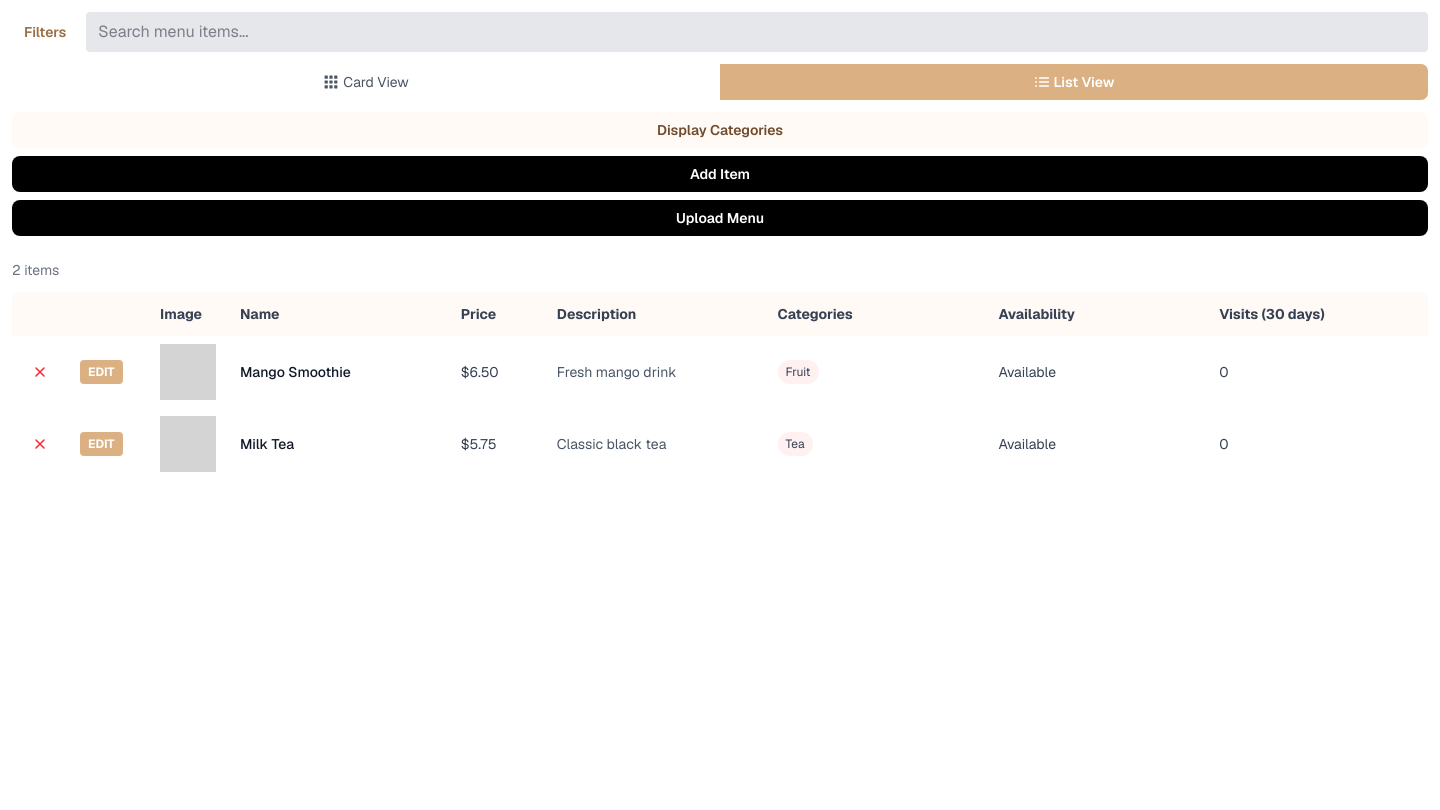
Scenario: Admin Menu UI integration › Display, search, sorting, and permissions › provides menu management controls for authorized admins
Check: the button "Add Item" is enabled, box [12,156,1428,192]
Check: the button "Upload Menu" is enabled, box [12,200,1428,236]
Click the button "EDIT" next to "Milk Tea": click(101, 444) [80,432,123,456]
(page scrolled)
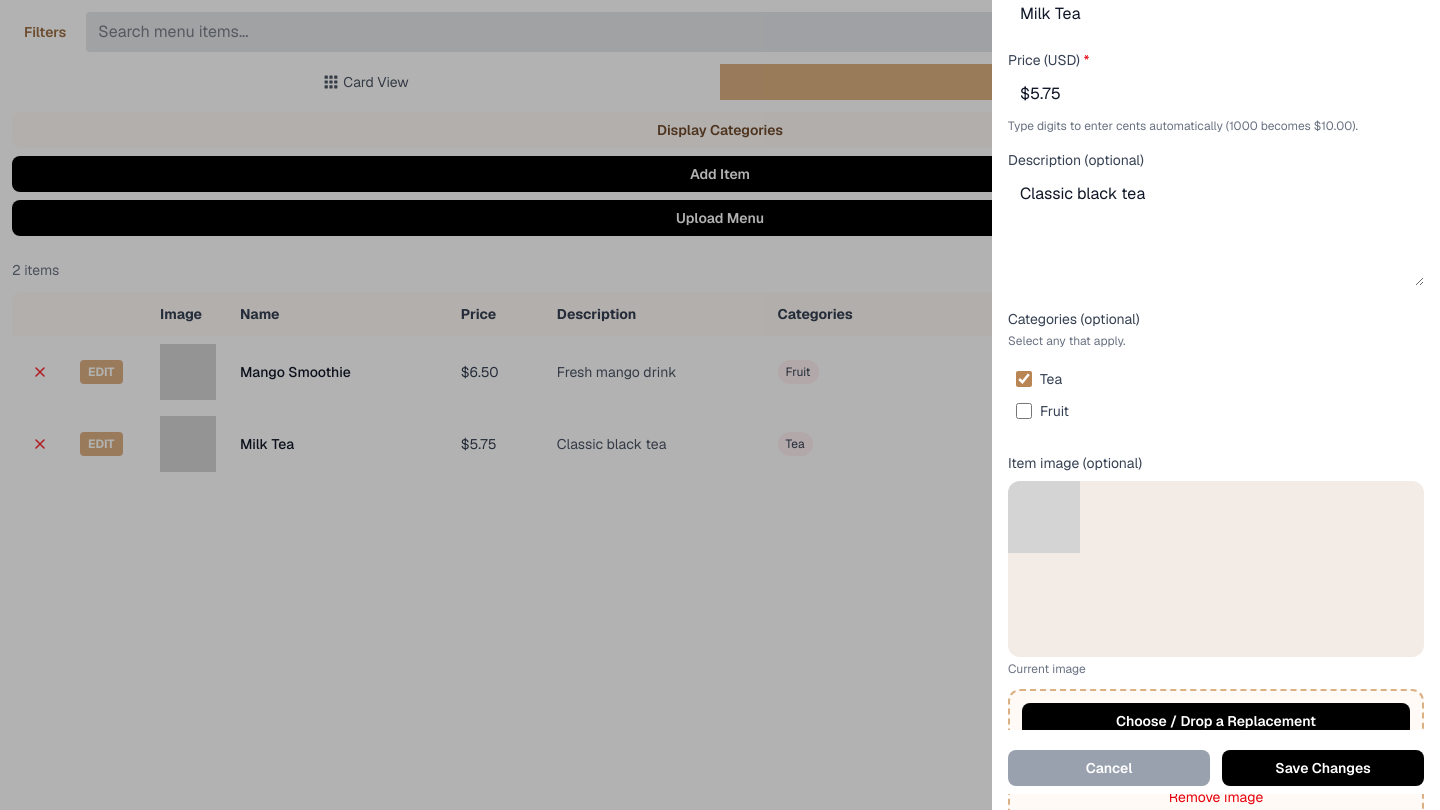
Check: the form "Edit Menu Item" is shown, box [1008,0,1424,809]
